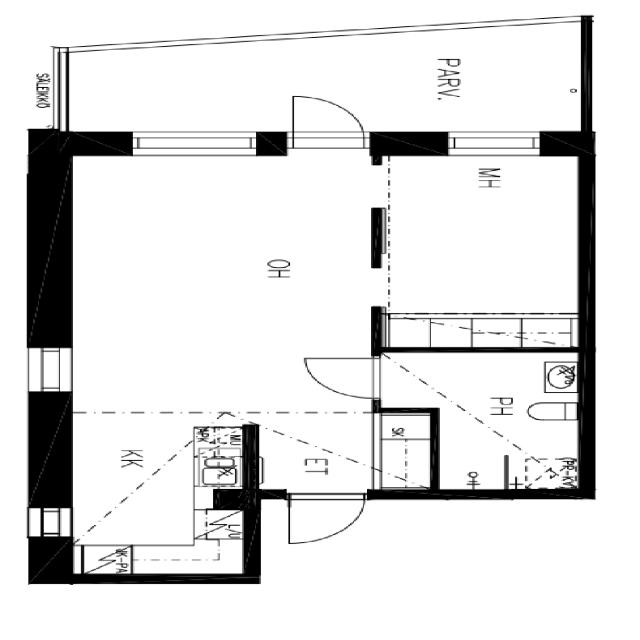door: (277, 91, 378, 150), (292, 351, 398, 401), (280, 490, 366, 546)
window: (116, 122, 266, 158), (432, 122, 557, 160), (23, 339, 77, 405), (27, 502, 76, 544), (15, 502, 55, 544)
zone: (78, 130, 384, 438), (370, 142, 588, 345), (61, 410, 252, 576), (382, 349, 589, 493), (372, 312, 586, 348), (372, 412, 433, 495)
